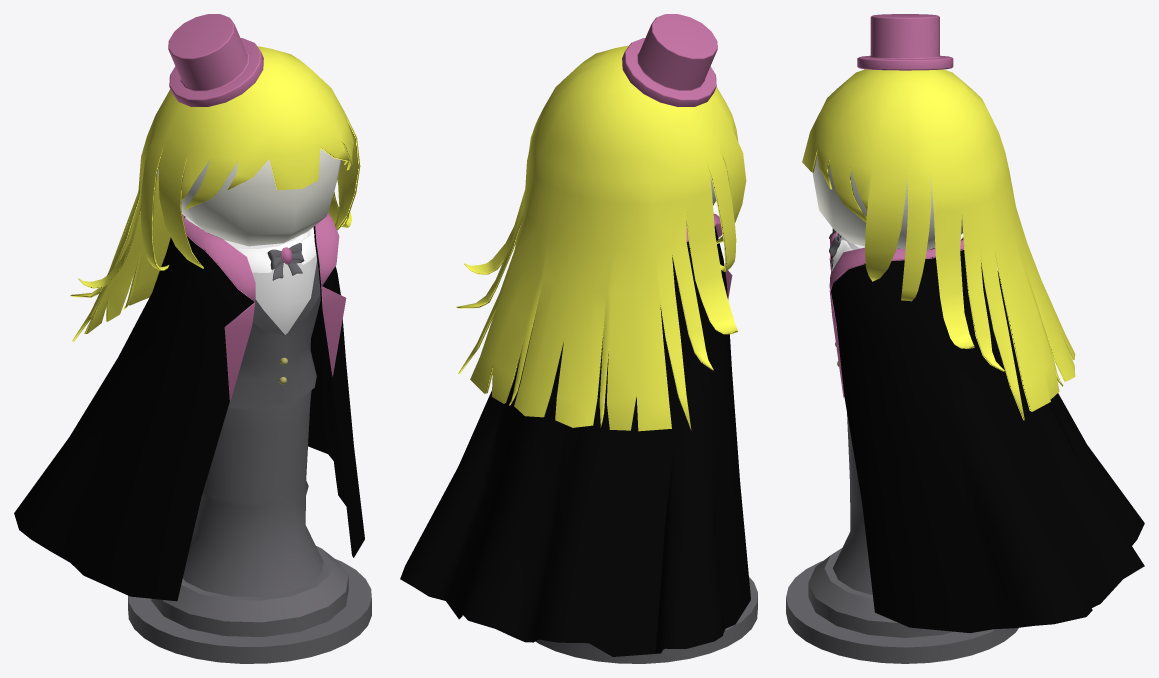
The model's file is KaitouModel 1.fbx.
The picture shows the model from 3 angles, left to right: view 1: azimuth 30°, elevation 25°; view 2: azimuth 150°, elevation 25°; view 3: azimuth 270°, elevation 25°; orthographic projection. The views are drawn at different scales.
Visible parts, largest first — view 1: pCylinder1; view 2: pCylinder1; view 3: pCylinder1.
Part boxes in pixels (x1,y1,x2,y2): pCylinder1: [14, 14, 371, 663]; pCylinder1: [400, 14, 757, 663]; pCylinder1: [786, 14, 1144, 663].
Bounding box in the file's own units: 111 × 205 × 114.
